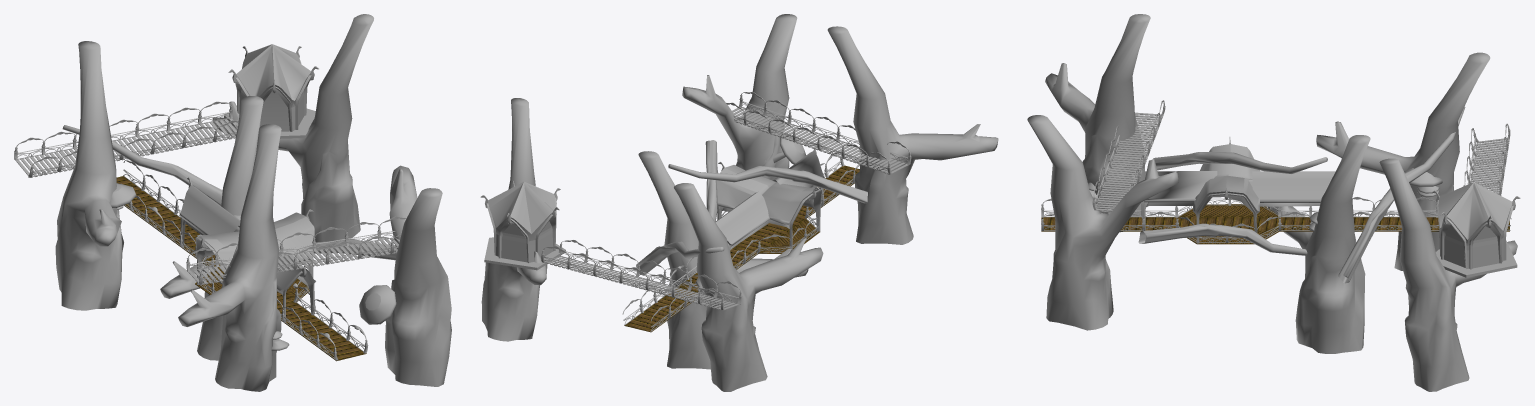
The model's file is fairyland_double_01.fbx.
3 views of the same model, side by side, from view 1: azimuth 30°, elevation 25°; view 2: azimuth 150°, elevation 25°; view 3: azimuth 270°, elevation 25° (orthographic). The views are drawn at different scales.
Parts seen in each view (by area): view 1: pCylinder64, pCylinder66, pCylinder27, pCylinder71, polySurface248, polySurface245, pCylinder7, pCube53, pCube543, pCylinder70, pCylinder16, pCylinder65 (+1 smaller); view 2: pCylinder64, pCylinder66, pCylinder27, pCylinder71, polySurface248, pCylinder7, polySurface245, pCylinder25, pCube543, pCube53, pCylinder70, pCube545 (+2 smaller); view 3: pCylinder27, pCylinder7, pCylinder71, pCylinder64, polySurface248, polySurface245, pCylinder66, pCylinder65, pCylinder70, pCylinder25, pCube53, pCube543 (+2 smaller).
Boxes of the visible parts, x1=… form: pCylinder64: x1=178, y1=124, x2=281, y2=391; pCylinder66: x1=55, y1=41, x2=123, y2=310; pCylinder27: x1=385, y1=165, x2=451, y2=386; pCylinder71: x1=212, y1=14, x2=373, y2=242; polySurface248: x1=179, y1=177, x2=315, y2=322; polySurface245: x1=224, y1=44, x2=318, y2=138; pCylinder7: x1=160, y1=96, x2=263, y2=360; pCube53: x1=216, y1=270, x2=366, y2=361; pCube543: x1=116, y1=176, x2=221, y2=271; pCylinder70: x1=62, y1=125, x2=222, y2=205; pCylinder16: x1=359, y1=285, x2=396, y2=324; pCylinder65: x1=313, y1=239, x2=396, y2=260; pCylinder64: x1=827, y1=26, x2=998, y2=244; pCylinder66: x1=674, y1=183, x2=823, y2=391; pCylinder27: x1=682, y1=14, x2=797, y2=180; pCylinder71: x1=481, y1=98, x2=547, y2=341; polySurface248: x1=715, y1=145, x2=825, y2=252; pCylinder7: x1=638, y1=151, x2=808, y2=369; polySurface245: x1=480, y1=181, x2=565, y2=270; pCylinder25: x1=668, y1=164, x2=867, y2=203; pCube543: x1=624, y1=246, x2=760, y2=332; pCube53: x1=736, y1=165, x2=859, y2=251; pCylinder70: x1=636, y1=241, x2=724, y2=275; pCube545: x1=758, y1=218, x2=819, y2=253; pCylinder27: x1=1027, y1=115, x2=1178, y2=330; pCylinder7: x1=1267, y1=135, x2=1370, y2=353; pCylinder71: x1=1379, y1=158, x2=1517, y2=391; pCylinder64: x1=1045, y1=14, x2=1150, y2=232; polySurface248: x1=1125, y1=137, x2=1335, y2=243; polySurface245: x1=1432, y1=181, x2=1520, y2=277; pCylinder66: x1=1316, y1=52, x2=1490, y2=270; pCylinder65: x1=1138, y1=223, x2=1307, y2=255; pCylinder70: x1=1338, y1=106, x2=1465, y2=283; pCylinder25: x1=1152, y1=152, x2=1327, y2=173; pCube53: x1=1041, y1=217, x2=1275, y2=231; pCube543: x1=1275, y1=217, x2=1509, y2=231.
Size of the model in its own units: 6490 by 5090 by 7660.
